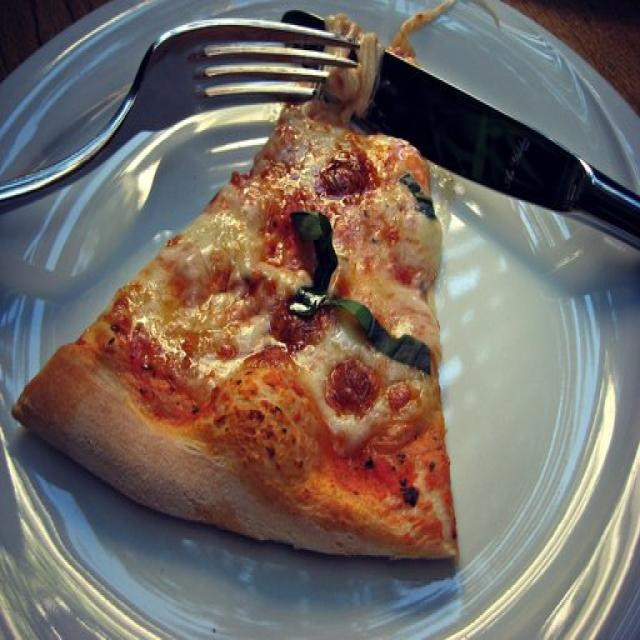Basil: (286, 208, 434, 370), (401, 171, 432, 221)
Olives: (322, 152, 364, 196)
Pizza: (14, 37, 459, 563)
